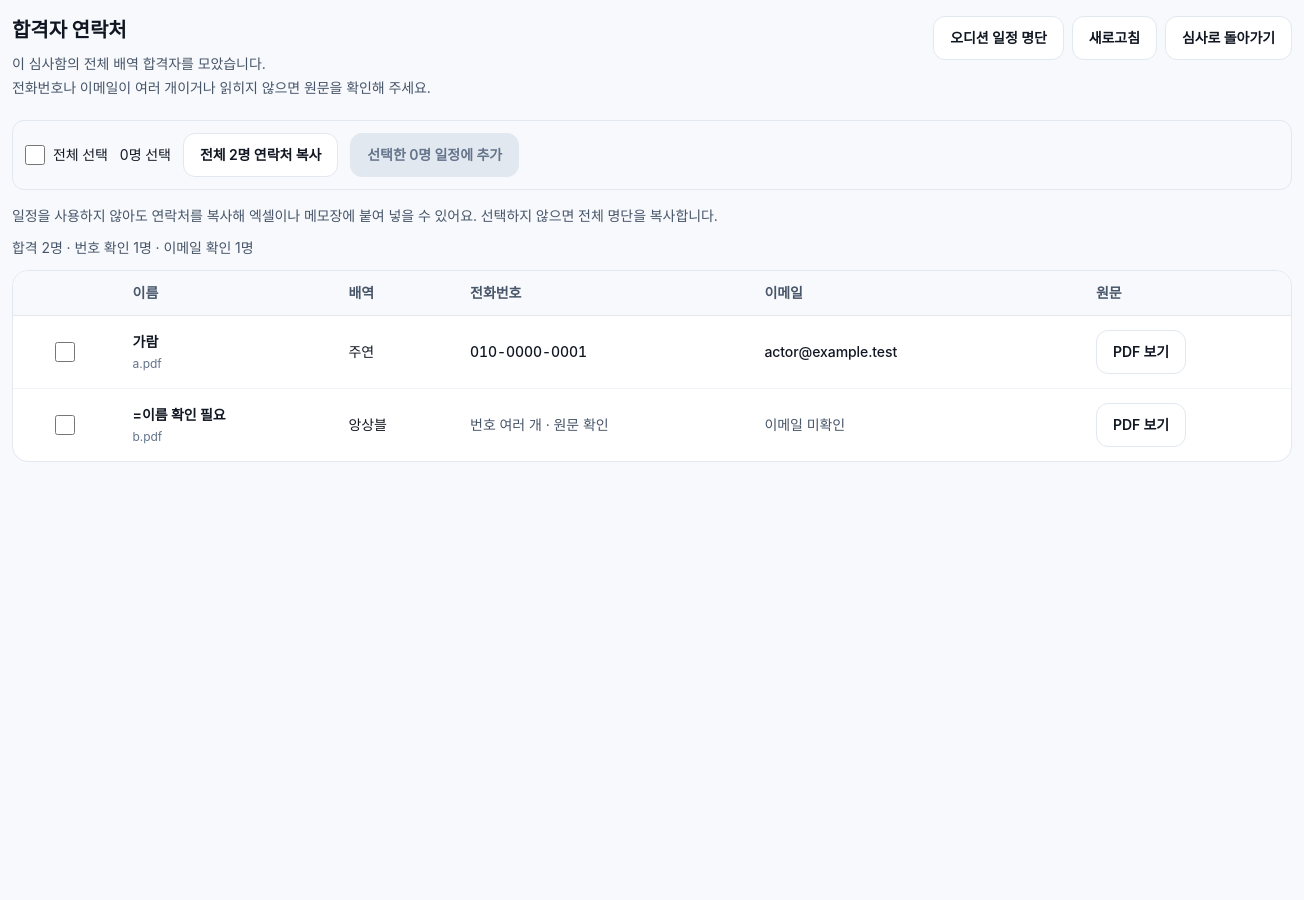
it: 합격자 연락처 복사 › 권한 거절 시 성공 안내 대신 선택된 수동 복사 내용을 제공한다
Click the button "전체 2명 연락처 복사" at (261, 155), box left=183, top=133, right=338, bottom=177
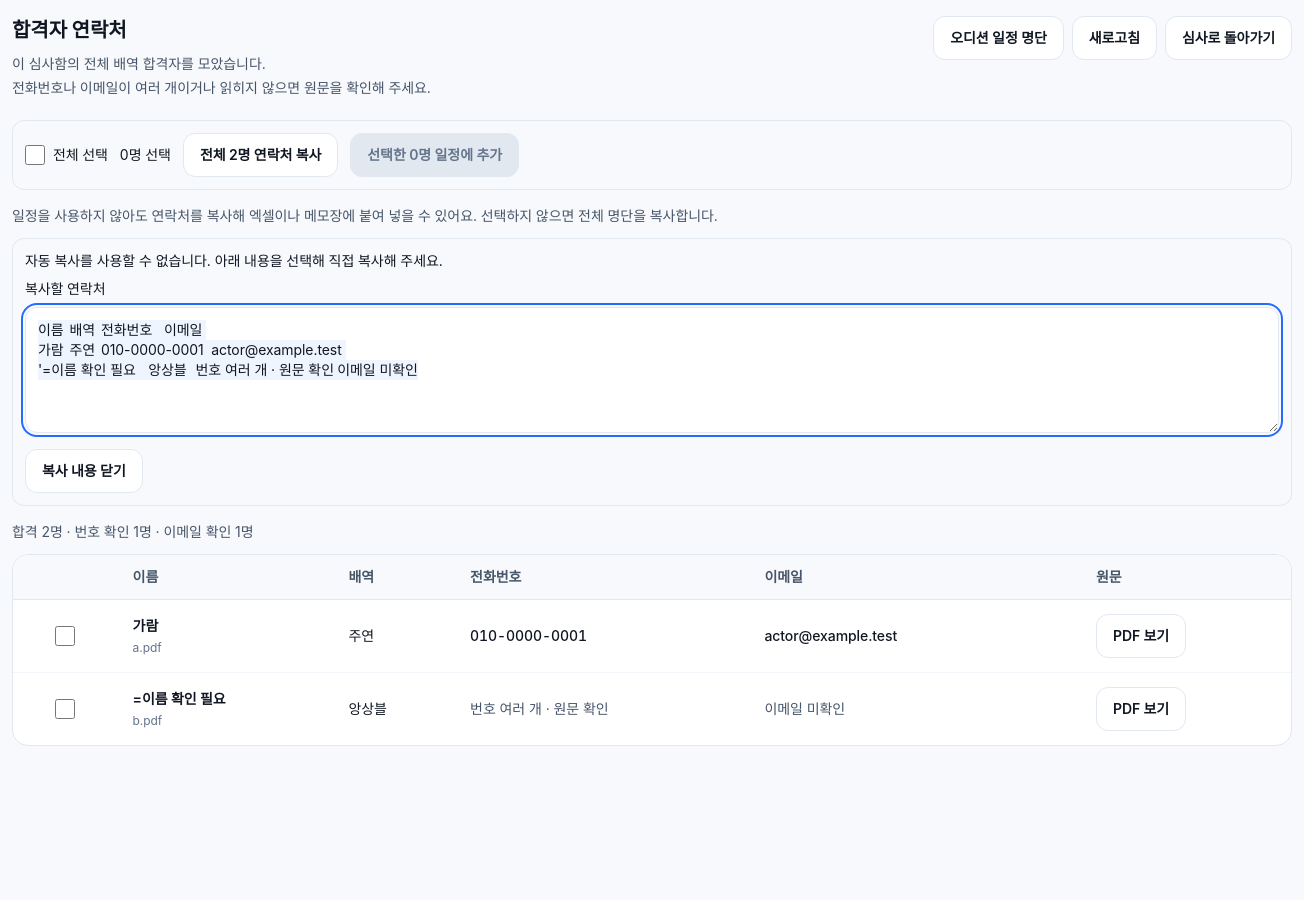
Now the text "직접 복사" is shown, box left=25, top=252, right=443, bottom=269
